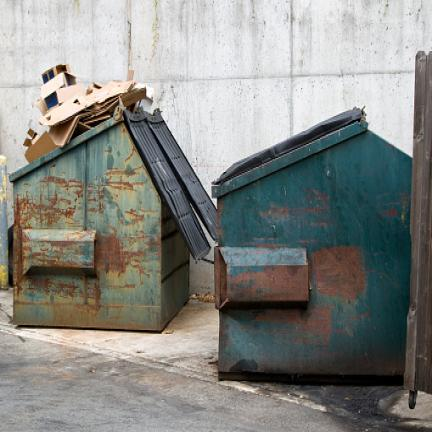karat: (12, 190, 81, 287), (215, 248, 308, 308), (312, 246, 365, 299)
